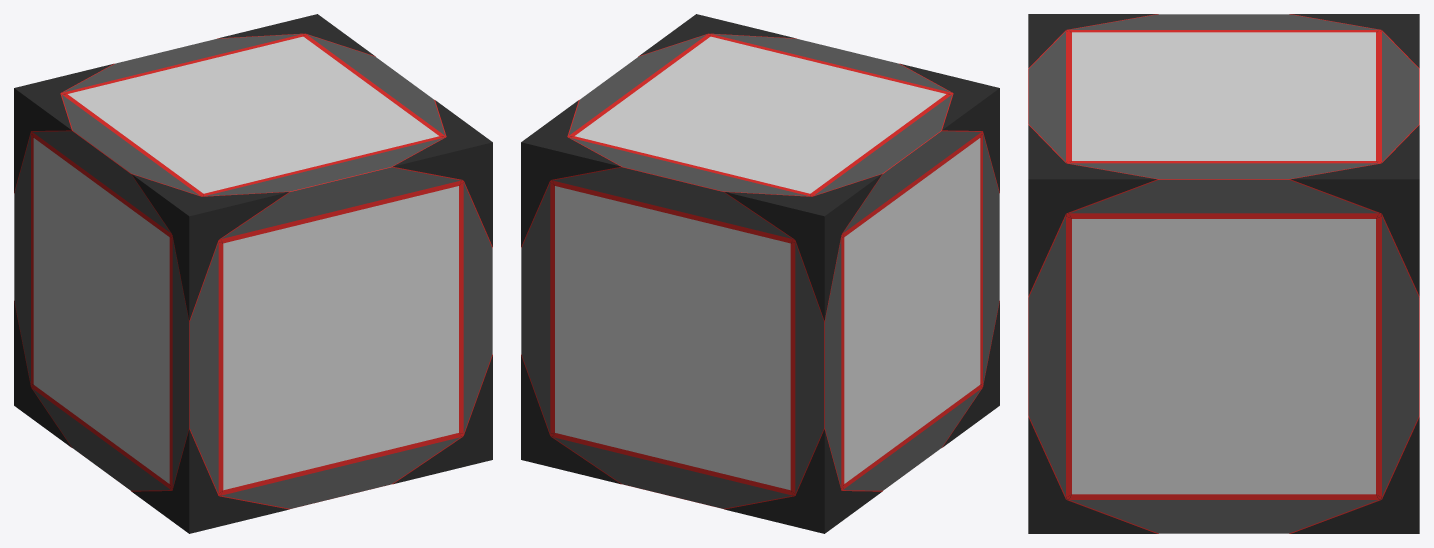
Rendered from platform.fbx.
3 renders of one model, left to right at view 1: azimuth 30°, elevation 25°; view 2: azimuth 150°, elevation 25°; view 3: azimuth 270°, elevation 25°, orthographic. The views are drawn at different scales.
Parts seen in each view (by area): view 1: Cube; view 2: Cube; view 3: Cube.
Part boxes in pixels (<box>): Cube: <box>14,14,492,533</box>; Cube: <box>521,14,999,533</box>; Cube: <box>1028,14,1419,533</box>.
Bounding box in the file's own units: 200 × 200 × 200.
